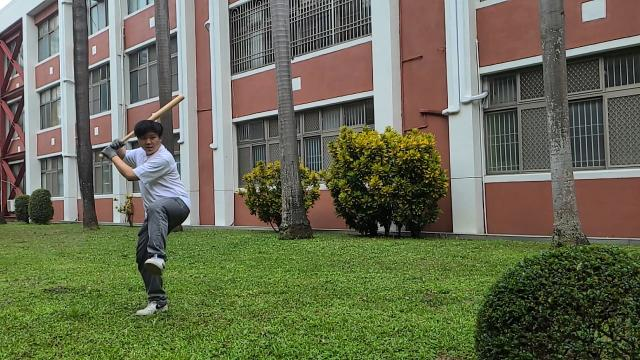bat: (120, 93, 186, 143)
